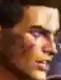kevin: (7, 4, 57, 79)
